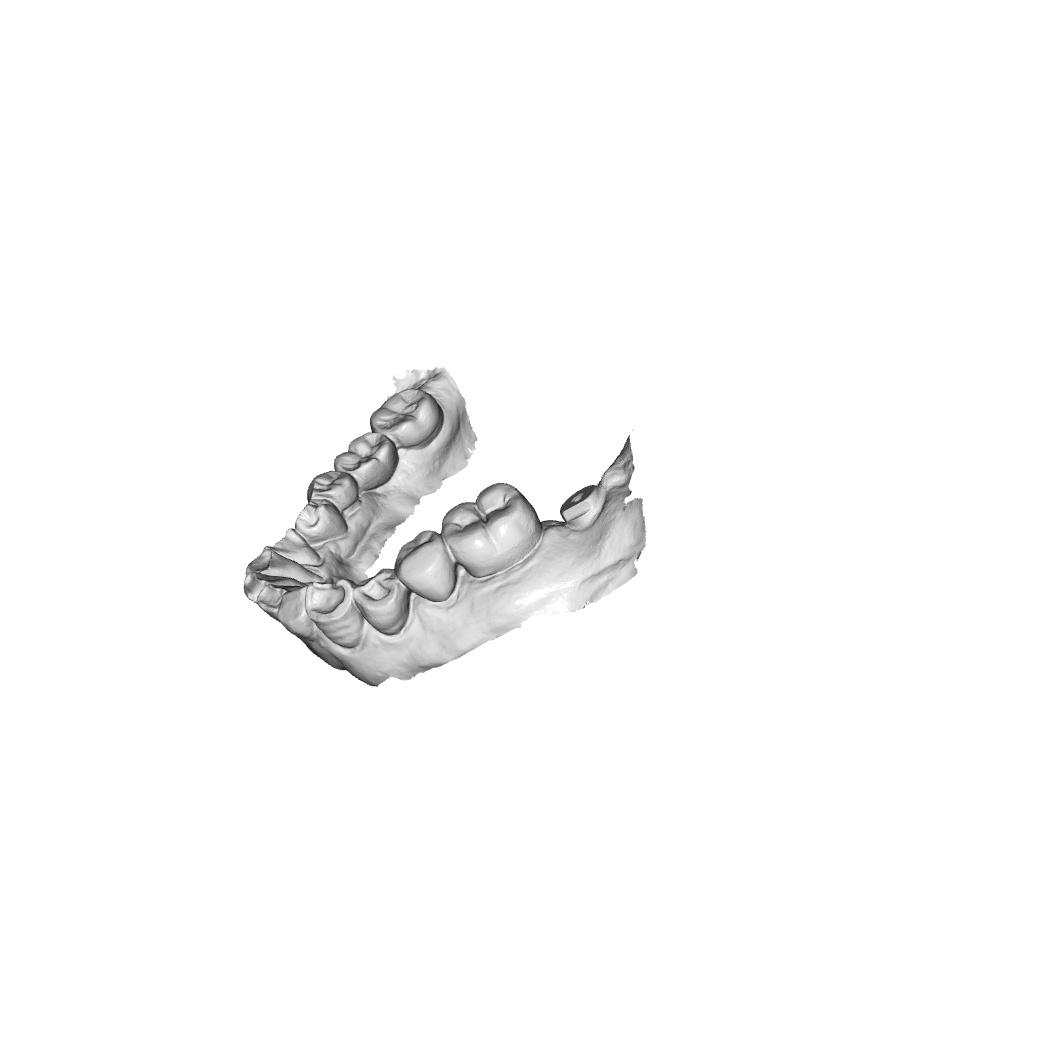implant: (556, 480, 607, 528)
molar: (443, 479, 545, 581), (362, 384, 447, 447), (328, 432, 403, 484)
premolar: (388, 527, 460, 604), (350, 566, 417, 637), (289, 498, 353, 544), (302, 470, 365, 512)
